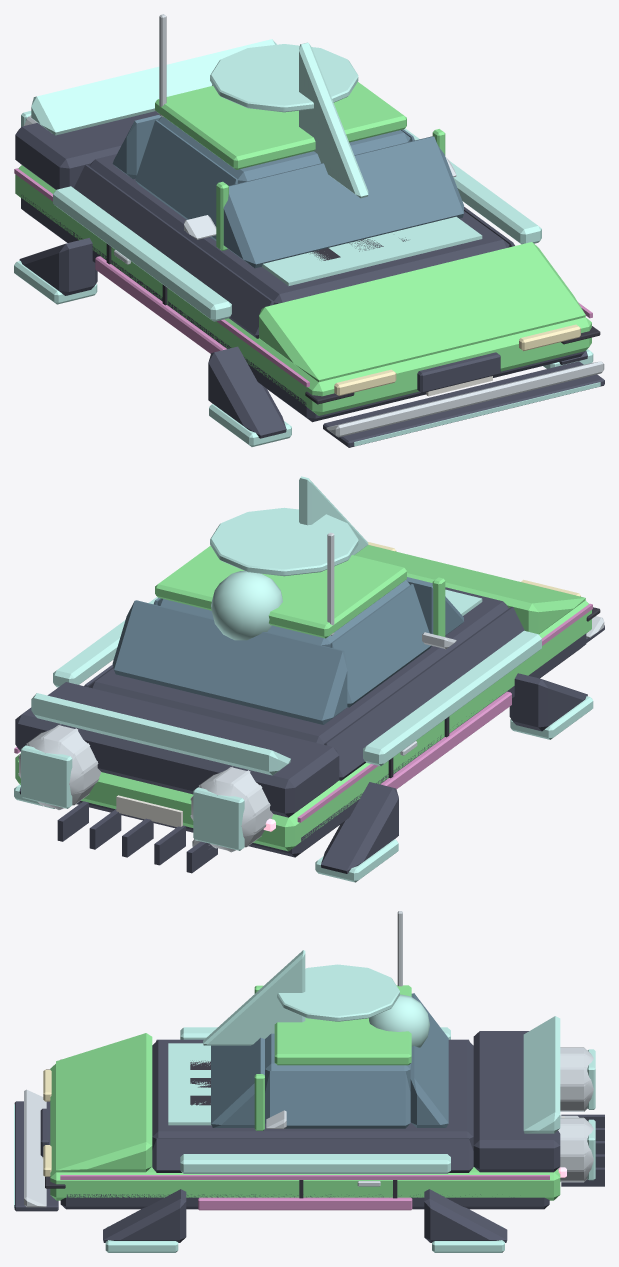
File: quantum_quasar.fbx
3 renders of one model, top to bottom at view 1: azimuth 30°, elevation 25°; view 2: azimuth 150°, elevation 25°; view 3: azimuth 270°, elevation 25°, orthographic. The views are drawn at different scales.
Visible parts, largest first — view 1: Body, Trim, Glass, Light, Accent3, Accent, Accent2, Light2, Trim2; view 2: Trim, Glass, Light, Body, Accent3, Accent, Accent2, Accent4; view 3: Trim, Body, Glass, Light, Accent3, Accent, Accent2, Trim2, Light2.
Boxes of the visible parts, x1,y1,x2,y2 form: Body: (15,82,591,415); Trim: (15,111,604,447); Glass: (112,115,463,268); Light: (14,44,600,446); Accent3: (31,39,482,285); Accent: (24,14,604,437); Accent2: (14,168,592,387); Light2: (334,324,580,395); Trim2: (106,237,600,404); Trim: (15,587,604,873); Glass: (112,577,463,724); Light: (14,507,593,882); Body: (15,545,591,851); Accent3: (31,476,482,775); Accent: (18,532,604,852); Accent2: (14,603,592,822); Accent4: (116,795,182,826); Trim: (14,1031,604,1242); Body: (50,985,560,1200); Glass: (211,993,448,1128); Light: (14,964,595,1252); Accent3: (168,950,560,1133); Accent: (24,911,593,1207); Accent2: (60,1059,549,1210); Trim2: (45,1060,397,1198); Light2: (43,1069,51,1176).
Bounding box in the file's own units: 3.2 × 2.52 × 5.68.
